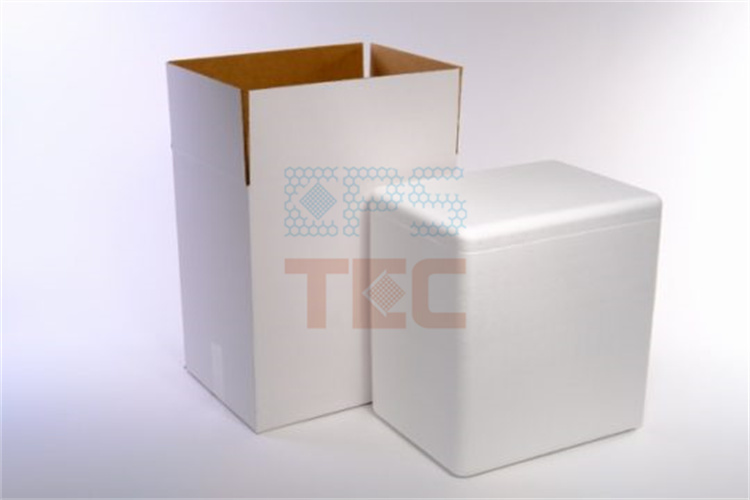泡沫箱: (374, 164, 659, 476)
